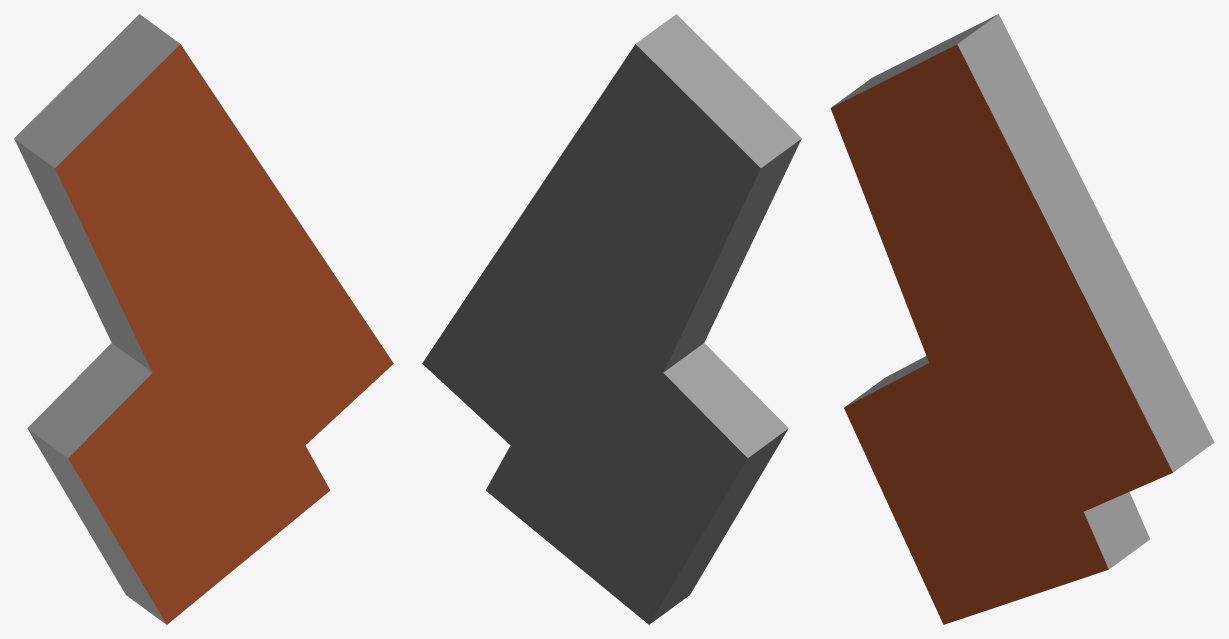
File: construction_1930_actual_A_Casa_h5m.obj
3 renders of one model, left to right at view 1: azimuth 30°, elevation 25°; view 2: azimuth 150°, elevation 25°; view 3: azimuth 330°, elevation 25°, orthographic.
Visible parts, largest first — view 1: construction_1930_actual_A_Casa; view 2: construction_1930_actual_A_Casa; view 3: construction_1930_actual_A_Casa.
Boxes of the visible parts, x1=… form: construction_1930_actual_A_Casa: x1=14, y1=14, x2=393, y2=624; construction_1930_actual_A_Casa: x1=422, y1=14, x2=801, y2=624; construction_1930_actual_A_Casa: x1=830, y1=14, x2=1214, y2=624.
Bounding box in the file's own units: 23.89 × 38.91 × 5.
